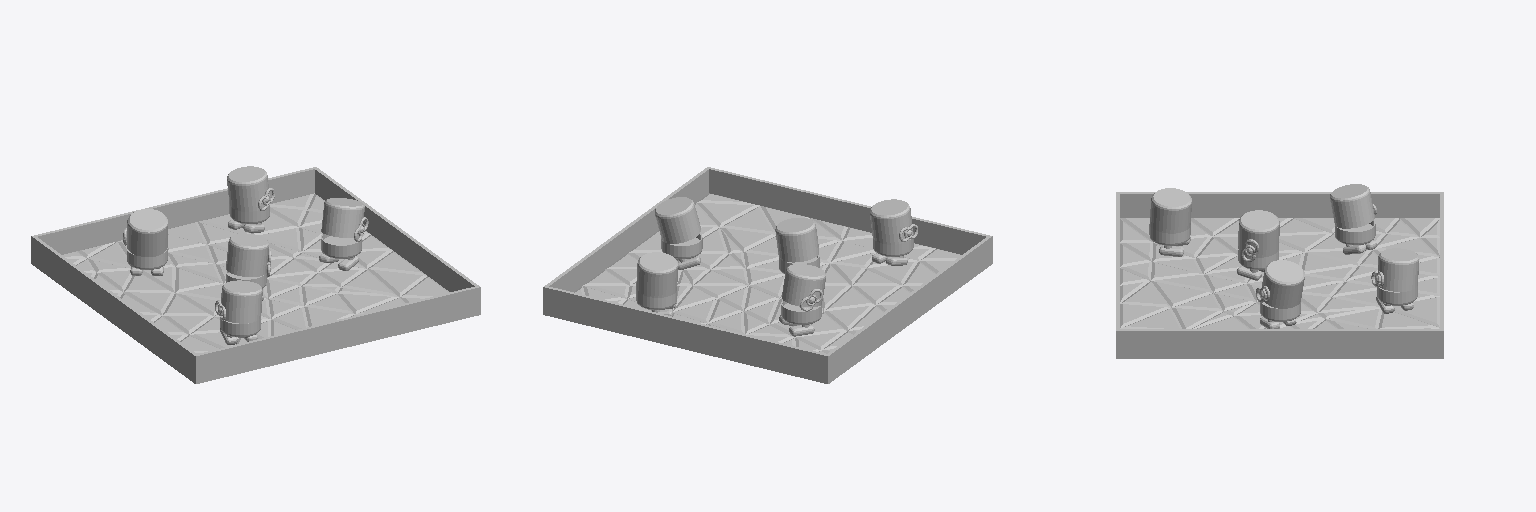
Rendered from Toasters014tri.obj.
3 renders of one model, left to right at view 1: azimuth 30°, elevation 25°; view 2: azimuth 150°, elevation 25°; view 3: azimuth 270°, elevation 25°, orthographic.
Visible parts, largest first — view 1: Box01.001, Head02.001, Head.001, Head04.001, Head03.001, Head01.001, Jaw01.001, Jaw04.001, Jaw02.001; view 2: Box01.001, Head01.001, Head03.001, Head.001, Head04.001, Head02.001, Jaw02.001, Jaw01.001; view 3: Box01.001, Head04.001, Head01.001, Head02.001, Head.001, Head03.001, Jaw02.001, Jaw03.001, Jaw01.001.
Part boxes in pixels (left/top/right/bottom): Box01.001: left=31, top=167, right=480, bottom=383; Head02.001: left=127, top=209, right=167, bottom=256; Head.001: left=226, top=233, right=268, bottom=276; Head04.001: left=221, top=280, right=262, bottom=323; Head03.001: left=227, top=166, right=269, bottom=211; Head01.001: left=321, top=198, right=364, bottom=237; Jaw01.001: left=321, top=234, right=361, bottom=258; Jaw04.001: left=220, top=318, right=260, bottom=337; Jaw02.001: left=127, top=248, right=167, bottom=269; Box01.001: left=543, top=167, right=992, bottom=383; Head01.001: left=655, top=197, right=700, bottom=243; Head03.001: left=636, top=252, right=677, bottom=297; Head.001: left=775, top=218, right=818, bottom=262; Head04.001: left=870, top=199, right=913, bottom=244; Head02.001: left=782, top=264, right=825, bottom=306; Jaw02.001: left=781, top=300, right=821, bottom=324; Jaw01.001: left=661, top=234, right=702, bottom=258; Box01.001: left=1116, top=192, right=1443, bottom=358; Head04.001: left=1150, top=188, right=1191, bottom=233; Head01.001: left=1262, top=260, right=1304, bottom=308; Head02.001: left=1330, top=184, right=1374, bottom=228; Head.001: left=1238, top=210, right=1279, bottom=257; Head03.001: left=1378, top=248, right=1418, bottom=291; Jaw02.001: left=1335, top=221, right=1375, bottom=244; Jaw03.001: left=1377, top=286, right=1417, bottom=305; Jaw01.001: left=1260, top=298, right=1300, bottom=321.
Bounding box in the file's own units: 0.8 × 0.18 × 0.8.